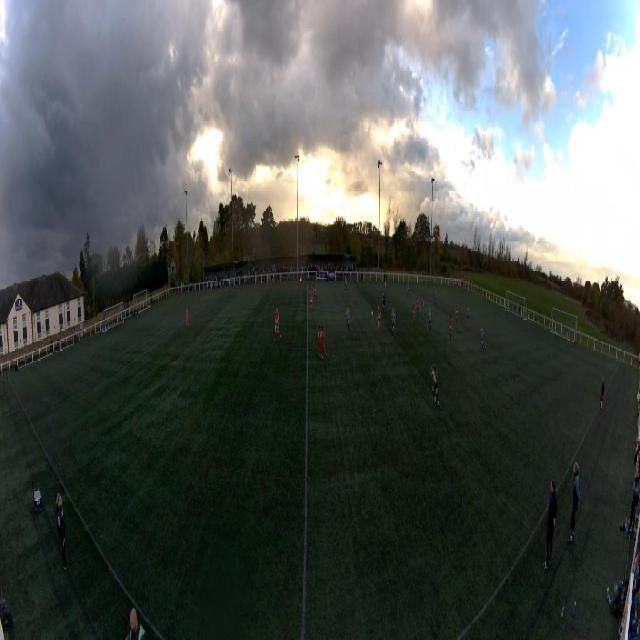ball: (371, 311, 373, 317)
player: (430, 362, 440, 407), (317, 323, 326, 360), (274, 307, 282, 342), (390, 307, 396, 338), (345, 307, 351, 331), (376, 306, 381, 334), (309, 290, 314, 314), (428, 308, 432, 334), (412, 299, 416, 325), (481, 326, 485, 352), (313, 283, 318, 301), (382, 291, 386, 313), (466, 305, 470, 326), (186, 307, 190, 327), (449, 314, 452, 339), (344, 276, 348, 293), (421, 297, 424, 318), (455, 304, 458, 324), (417, 292, 420, 312), (384, 276, 387, 293), (435, 291, 438, 308), (407, 283, 410, 298), (506, 302, 508, 316)
